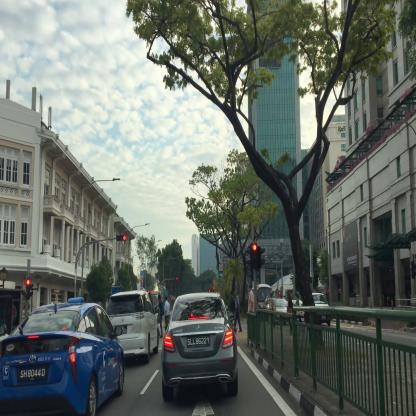red_traffic_light: (252, 242, 257, 267), (115, 235, 126, 240)
